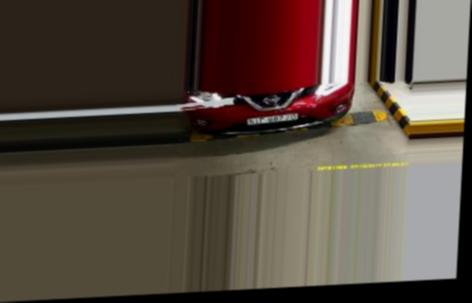License_Plate: (248, 111, 300, 127)
